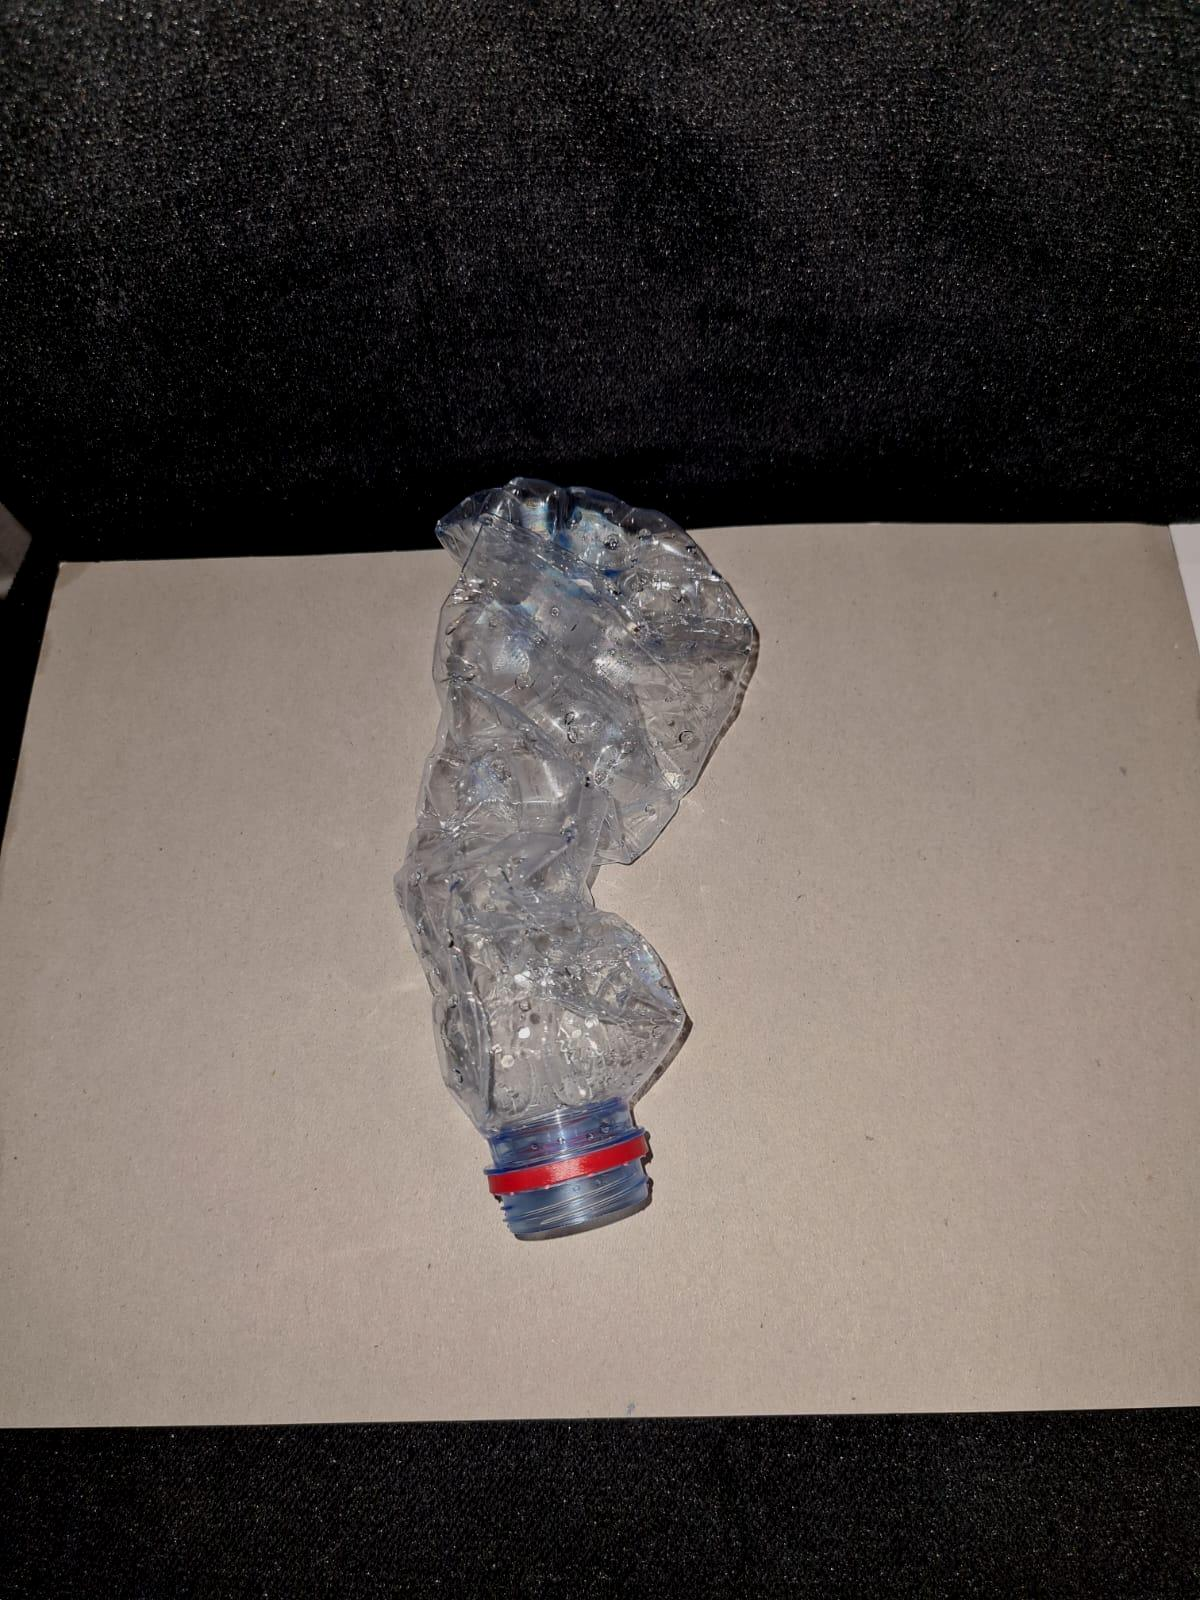bottle: (378, 470, 763, 1260)
